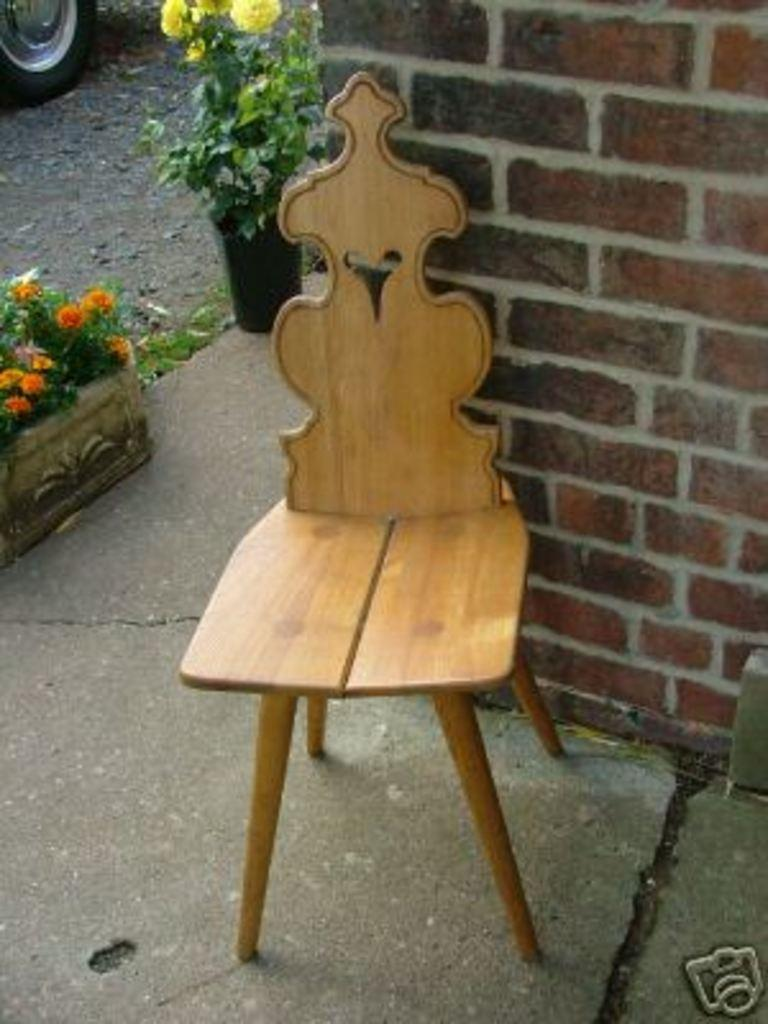Chair: (182, 56, 571, 965)
